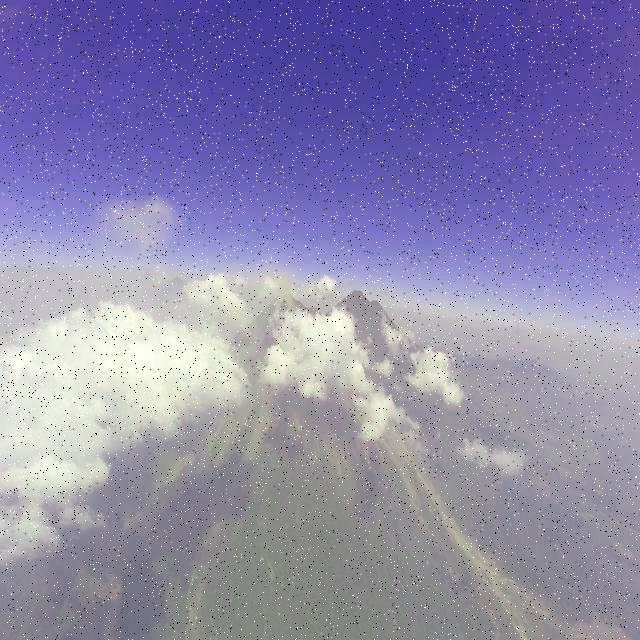Summit: (270, 289, 305, 309)
